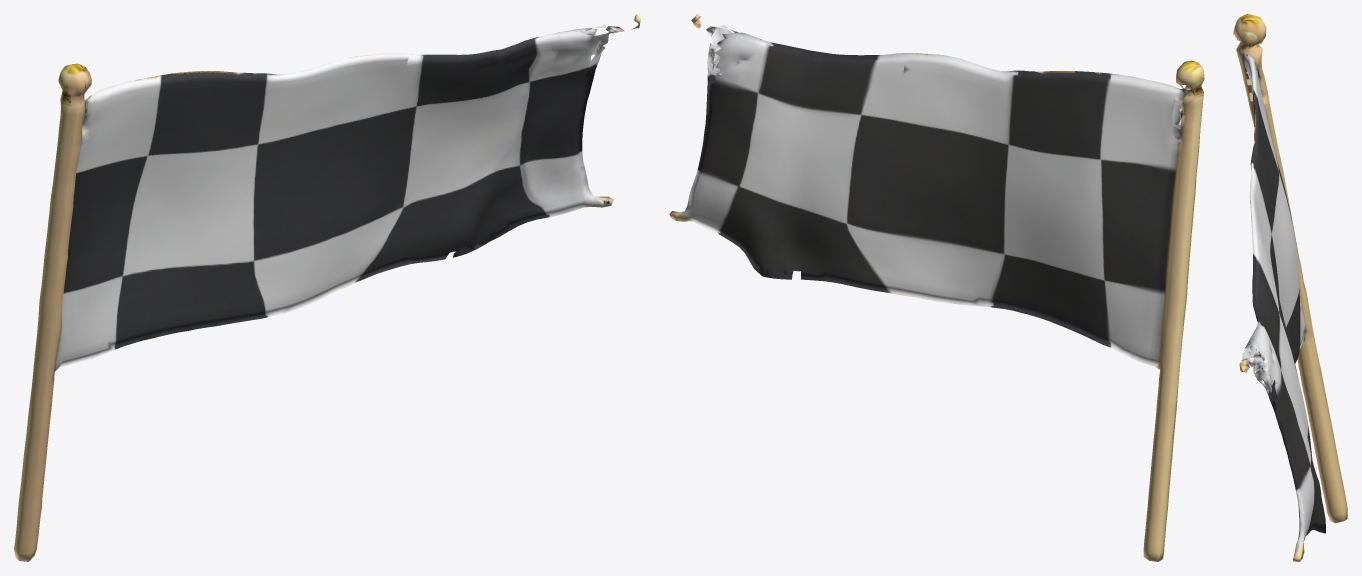
3 views of the same model, side by side, from view 1: azimuth 30°, elevation 25°; view 2: azimuth 150°, elevation 25°; view 3: azimuth 270°, elevation 25° (orthographic). The views are drawn at different scales.
Bounding box in the file's own units: 2 × 1.75 × 0.3574.
Materials: 1 (1 with a texture image).
